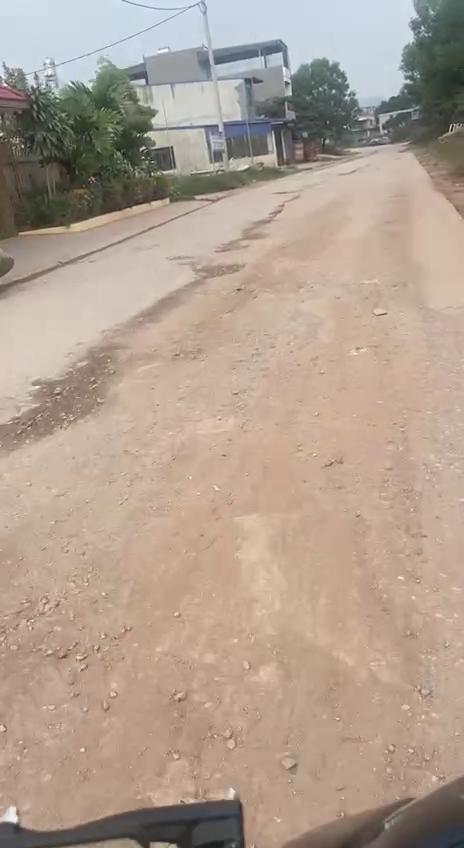pothole: (0, 332, 138, 456), (190, 256, 244, 280)
